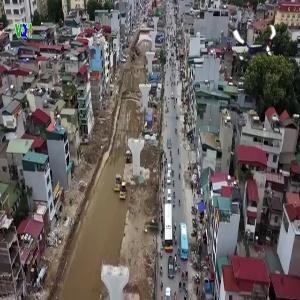drone: (234, 19, 283, 68)
